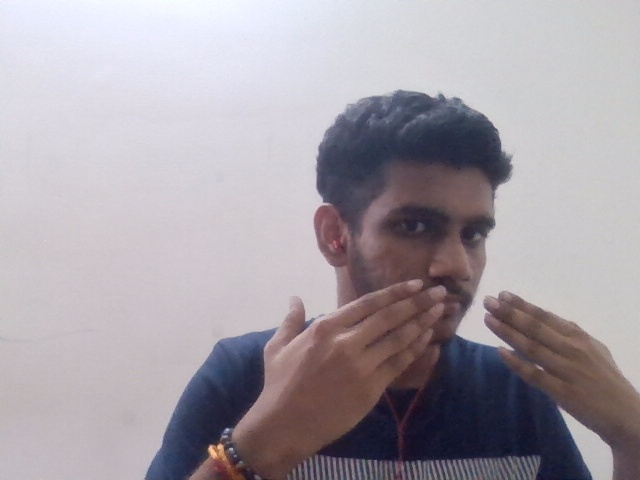thanks: (244, 263, 634, 449)
